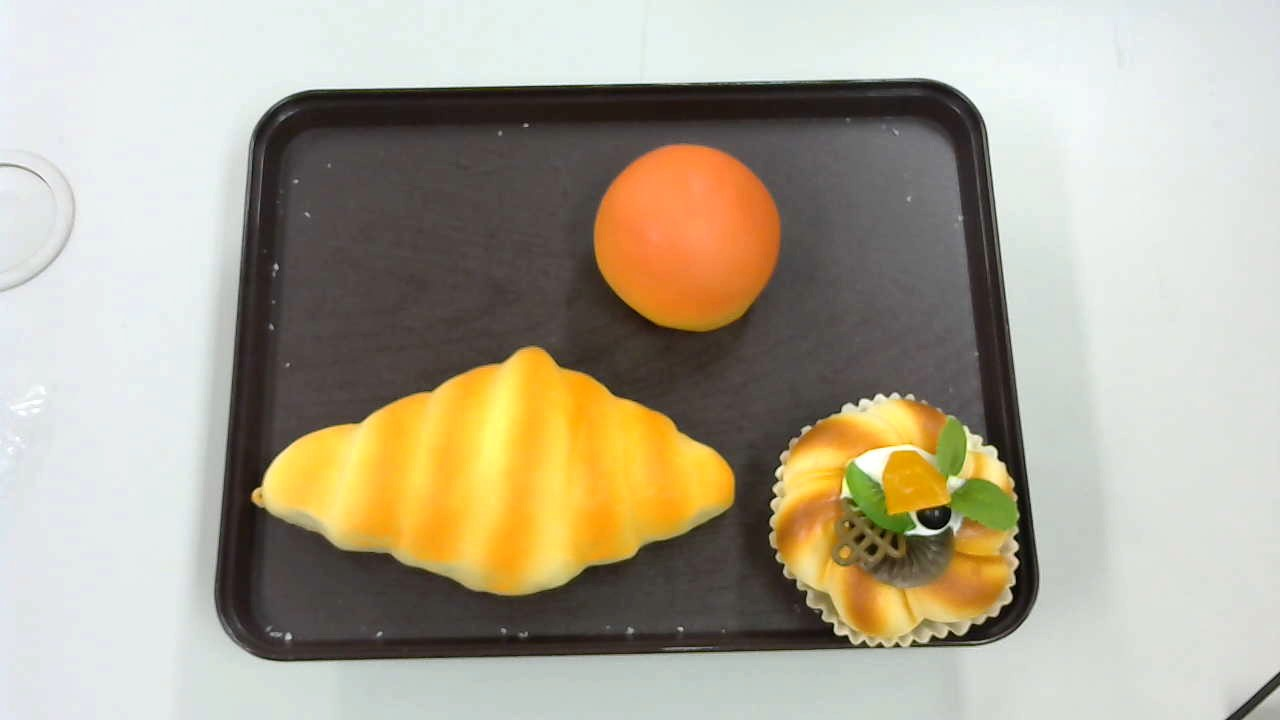bun: (594, 143, 782, 332)
croissant: (250, 344, 736, 598)
fruit tart: (769, 393, 1021, 647)
